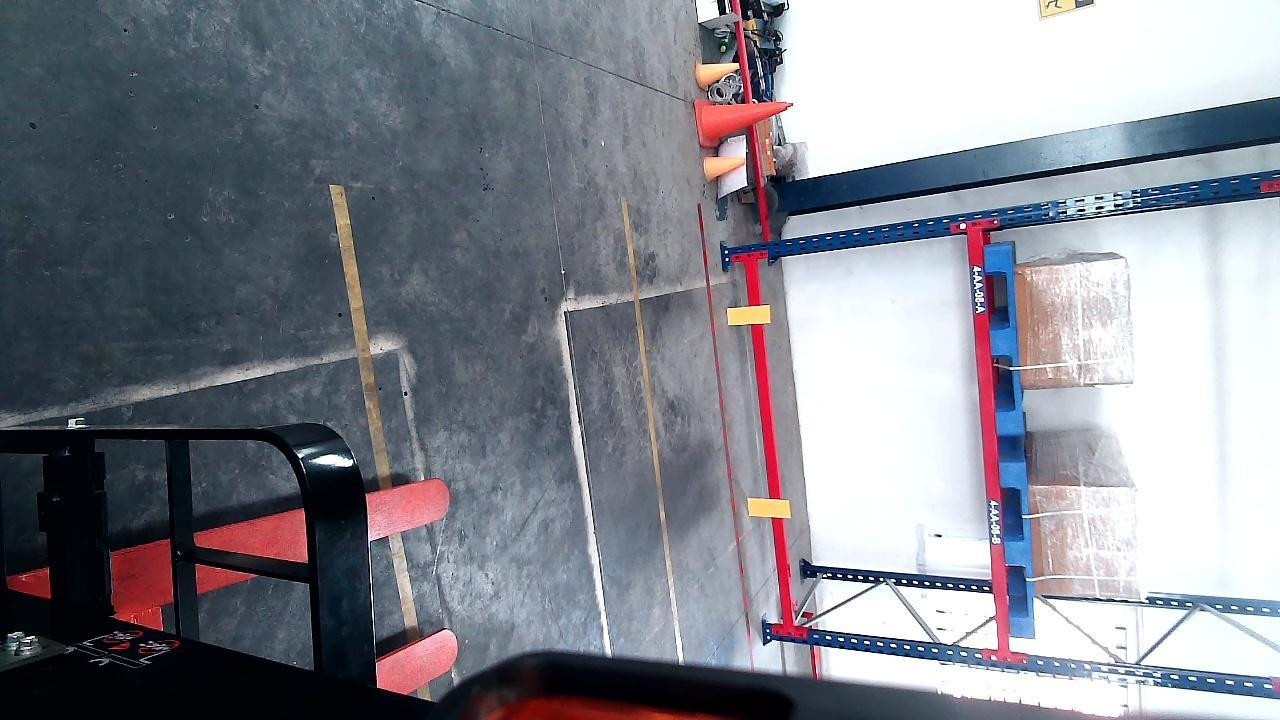red_line: (695, 206, 749, 638)
yellow_line: (326, 182, 420, 647), (622, 205, 689, 672)
